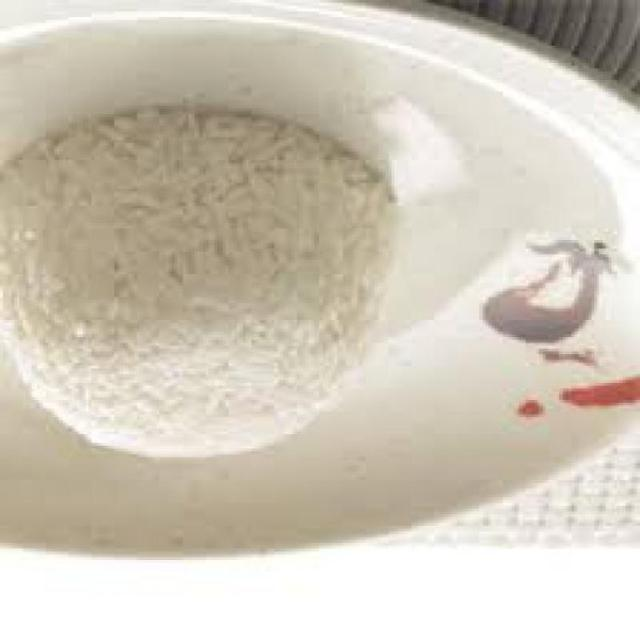nasi_putih: (0, 104, 407, 461)
